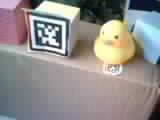duck: (91, 15, 136, 69)
